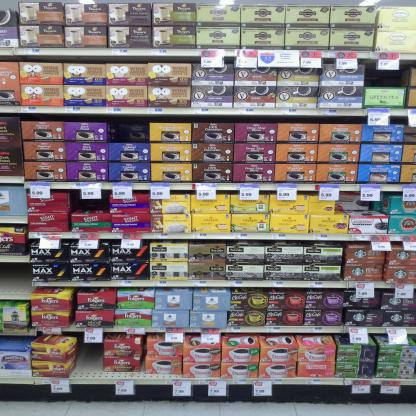Void: (108, 117, 144, 141), (5, 266, 30, 291), (77, 346, 102, 368), (72, 198, 108, 212), (369, 72, 403, 86)
